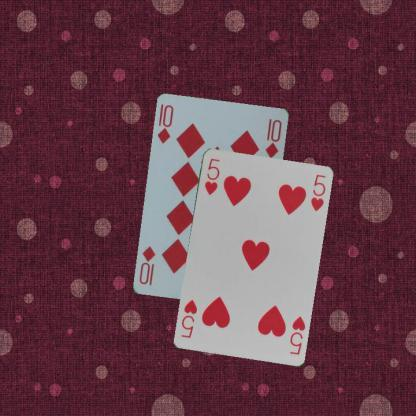10d: (155, 102, 175, 145)
5h: (287, 313, 307, 356), (202, 155, 220, 196)
